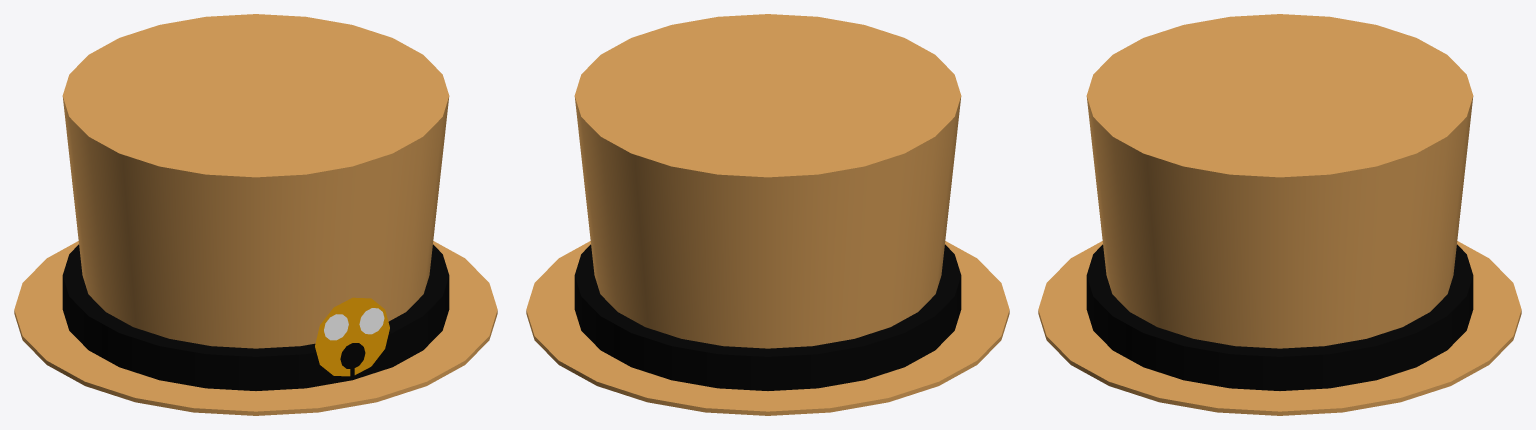
The model's file is pumpkin.glb.
The picture shows the model from 3 angles, left to right: view 1: azimuth 30°, elevation 25°; view 2: azimuth 150°, elevation 25°; view 3: azimuth 270°, elevation 25°; orthographic projection.
Visible parts, largest first — view 1: Cylinder1, Cylinder, Cylinder2, Circle, Circle2, Circle3, Circle1; view 2: Cylinder1, Cylinder, Cylinder2; view 3: Cylinder1, Cylinder, Cylinder2.
Boxes of the visible parts, x1,y1,x2,y2 form: Cylinder1: (62,14,449,348); Cylinder: (14,241,497,415); Cylinder2: (62,244,449,390); Circle: (315,297,389,376); Circle2: (324,314,348,340); Circle3: (359,308,384,334); Circle1: (340,343,365,368); Cylinder1: (574,14,961,348); Cylinder: (526,241,1009,415); Cylinder2: (574,244,961,390); Cylinder1: (1086,14,1473,348); Cylinder: (1038,241,1521,415); Cylinder2: (1086,244,1473,390).
Size of the model in its own units: 1 by 0.51 by 1.
